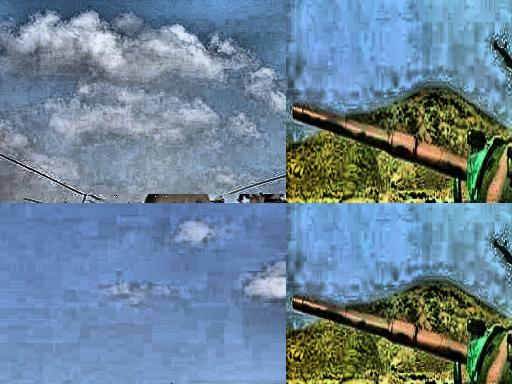tanks: (295, 107, 512, 204), (295, 298, 512, 384), (499, 49, 512, 65), (499, 247, 512, 261), (429, 203, 431, 204)
